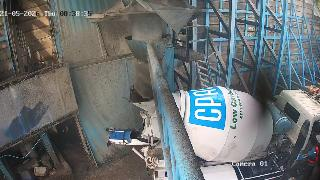cement_mixer_truck: (130, 84, 320, 180)
swing_chute: (124, 35, 171, 99)
